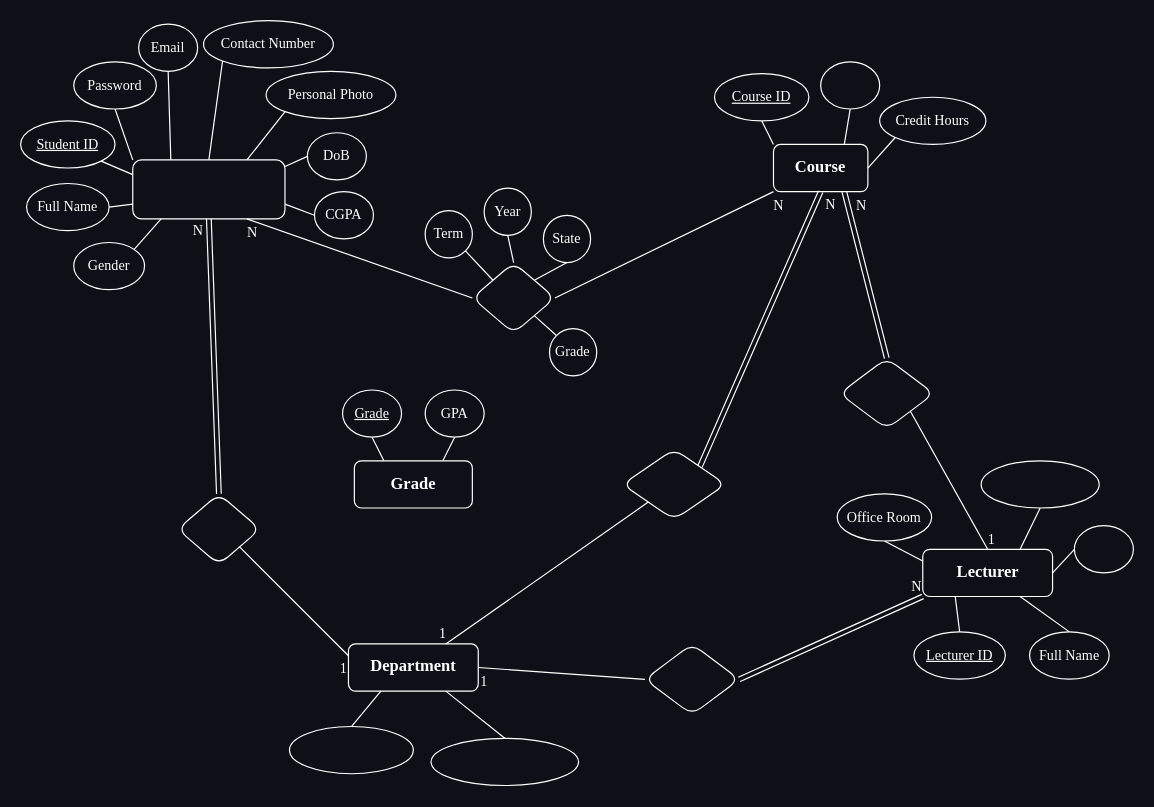
Image size: 1154x807. Some labels were removed from this diagram. Here are the shapes that lost their labels. From the top down, the centre of each, then its label:
the point at 850,85: Title
the point at 208,189: Student
the point at 513,297: takes
the point at 886,393: teaches
the point at 673,484: belongs to
the point at 1039,484: Contact Email
the point at 218,529: enrolls
the point at 1103,549: Salary
the point at 691,679: works at
the point at 350,749: Department ID
the point at 504,761: Department Name
